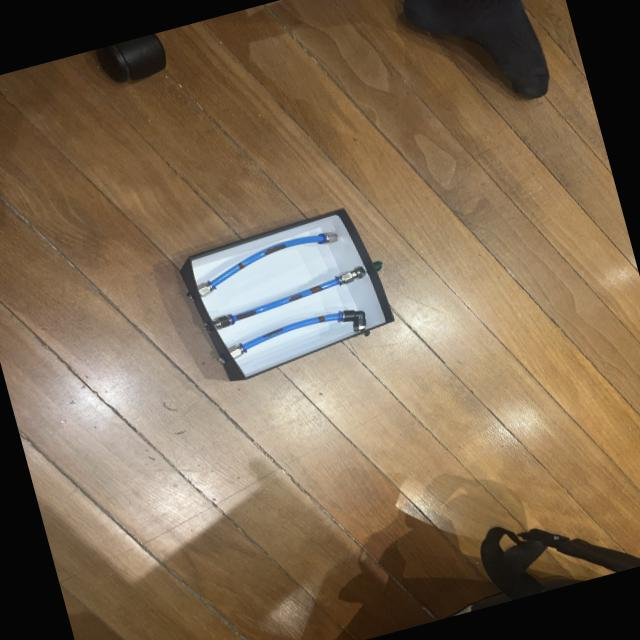hose_damage: (262, 242, 288, 256), (234, 308, 259, 321), (260, 326, 285, 338), (308, 283, 324, 295), (286, 292, 304, 302), (235, 260, 246, 270), (316, 314, 326, 322)
